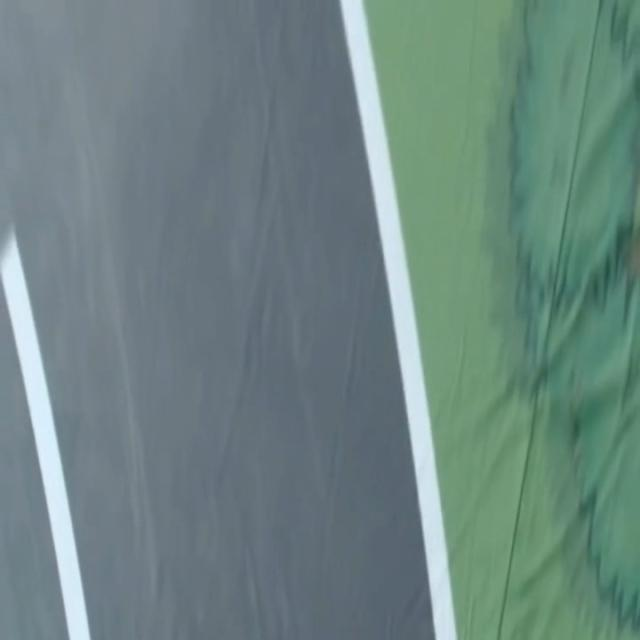center: (0, 233, 90, 639)
right: (340, 0, 456, 639)
